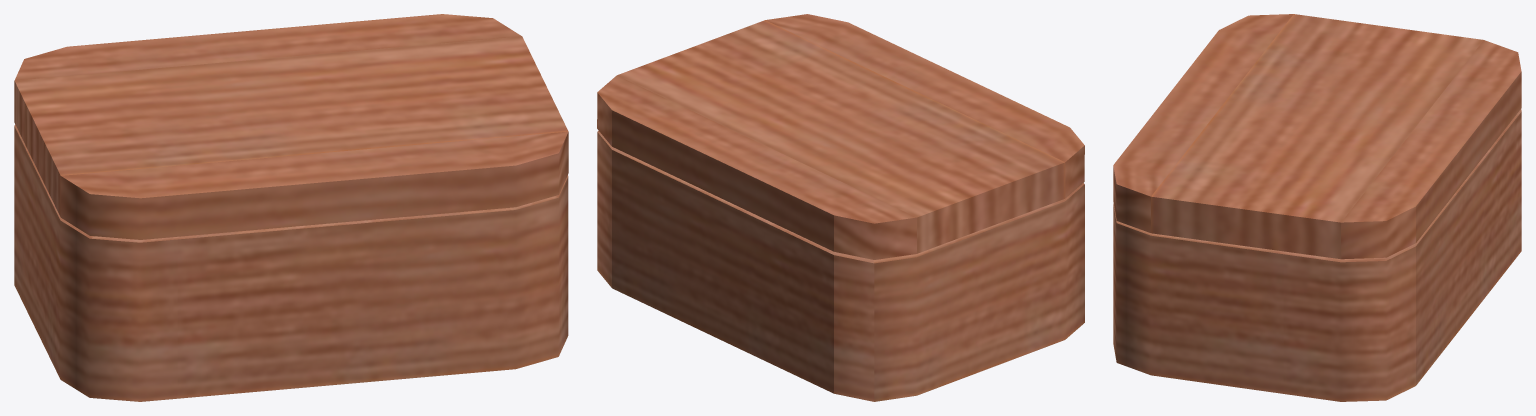
The model's file is Caixinha.fbx.
3 views of the same model, side by side, from view 1: azimuth 30°, elevation 25°; view 2: azimuth 150°, elevation 25°; view 3: azimuth 270°, elevation 25° (orthographic). The views are drawn at different scales.
Parts seen in each view (by area): view 1: Caixinha de Costura.001; view 2: Caixinha de Costura.001; view 3: Caixinha de Costura.001.
Part boxes in pixels (x1,y1,x2,y2): Caixinha de Costura.001: (14, 14, 568, 401); Caixinha de Costura.001: (597, 14, 1084, 401); Caixinha de Costura.001: (1113, 14, 1521, 401).
Bounding box in the file's own units: 233 × 93.56 × 193.
